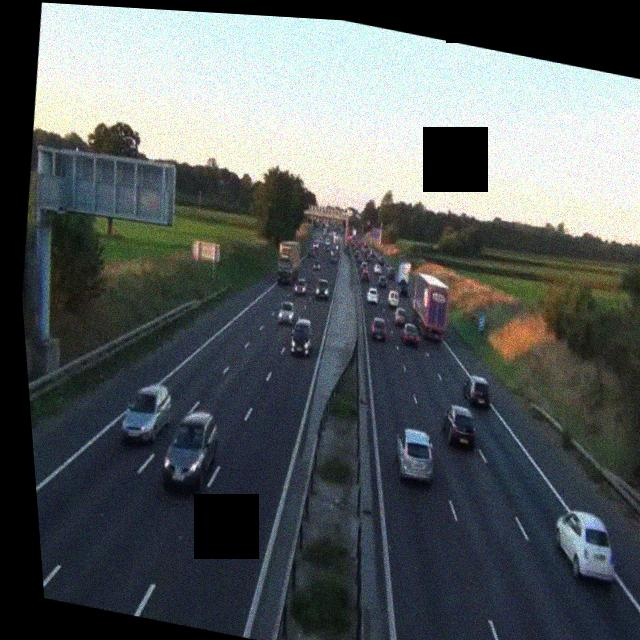car: (156, 403, 225, 497), (549, 506, 623, 584), (117, 379, 176, 452), (391, 424, 439, 486), (438, 401, 482, 451), (460, 373, 495, 413), (288, 316, 316, 358), (398, 317, 423, 347), (368, 314, 389, 342), (276, 299, 296, 326), (314, 279, 331, 301), (292, 276, 308, 298), (364, 285, 380, 305), (385, 288, 400, 308), (360, 269, 371, 283), (312, 258, 323, 272), (329, 250, 340, 264), (356, 256, 367, 269), (311, 238, 320, 252)
truck: (406, 271, 454, 342), (274, 238, 306, 287), (395, 262, 415, 293)
